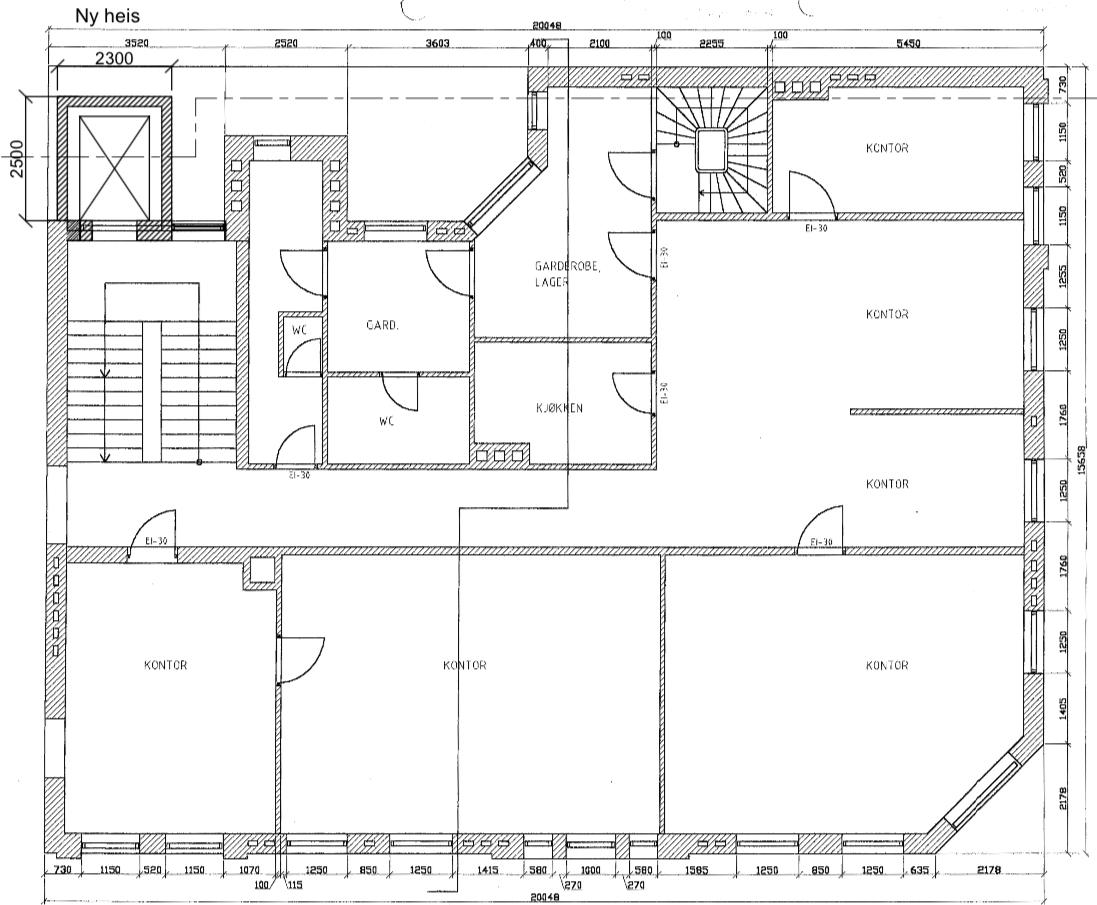room: (278, 550, 663, 839), (662, 551, 1025, 838), (56, 554, 278, 843), (472, 66, 655, 340), (770, 73, 1026, 217), (246, 159, 326, 467), (474, 337, 653, 468), (325, 240, 471, 375), (324, 374, 472, 467), (280, 312, 323, 375)
